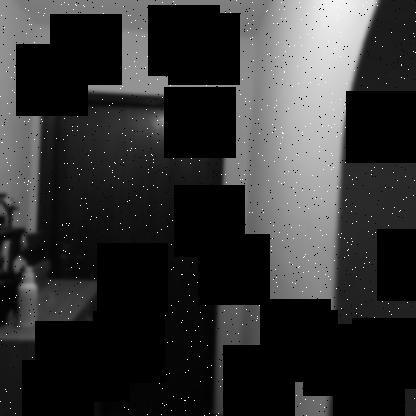Porte: (32, 87, 228, 416)
